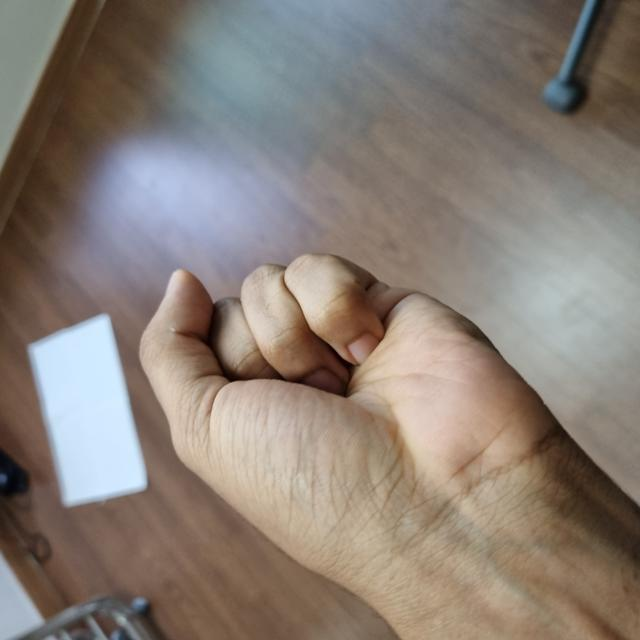Rock: (15, 143, 373, 549)
